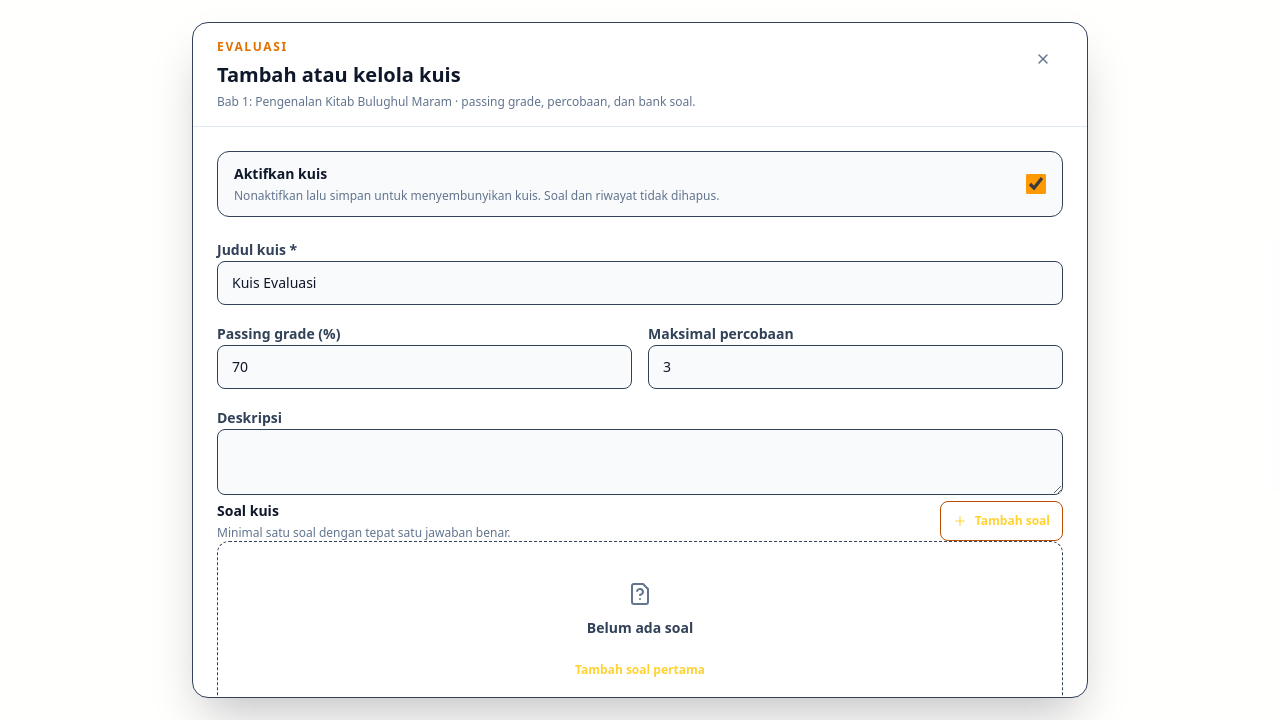
Lessons Feature Integration Tests › dialog kuis menyediakan pengaturan dan bank soal dalam alur terpisah
Click the button "Tambah soal". click: {"x": 1001, "y": 521}
box: [940,501,1063,541]
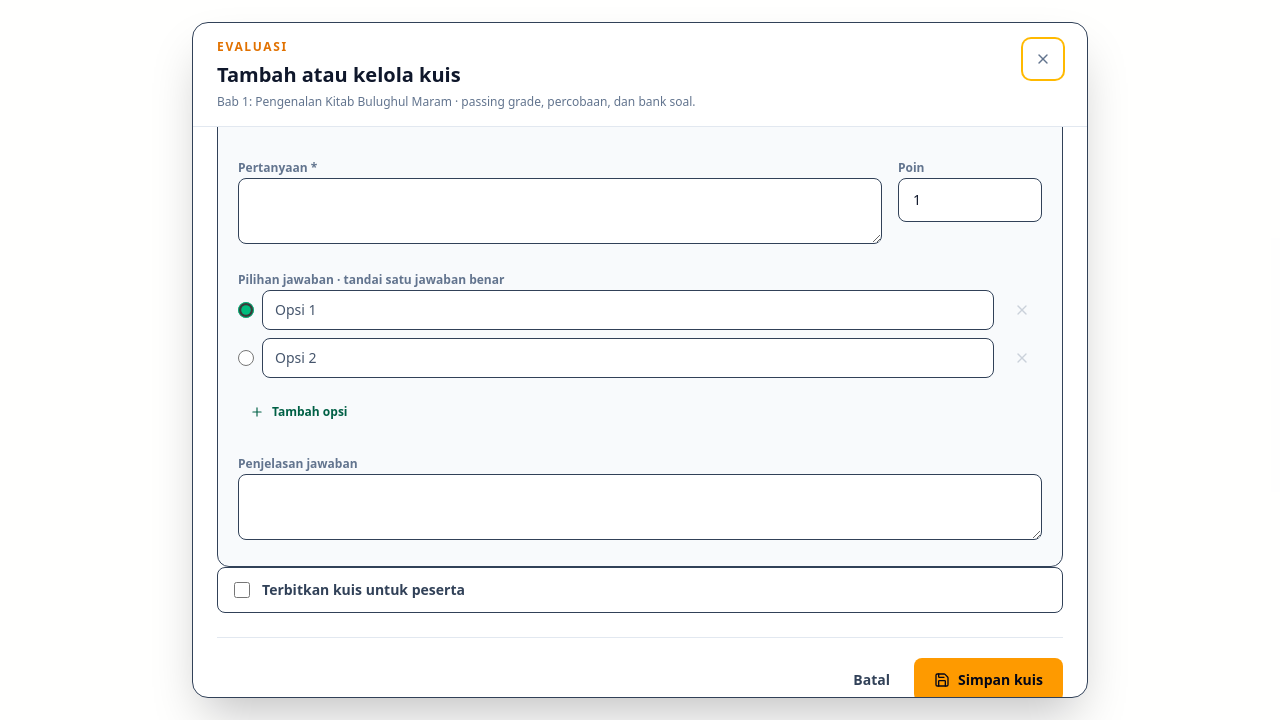
Now the button "Tambah opsi" is shown, box [238,390,360,434]
